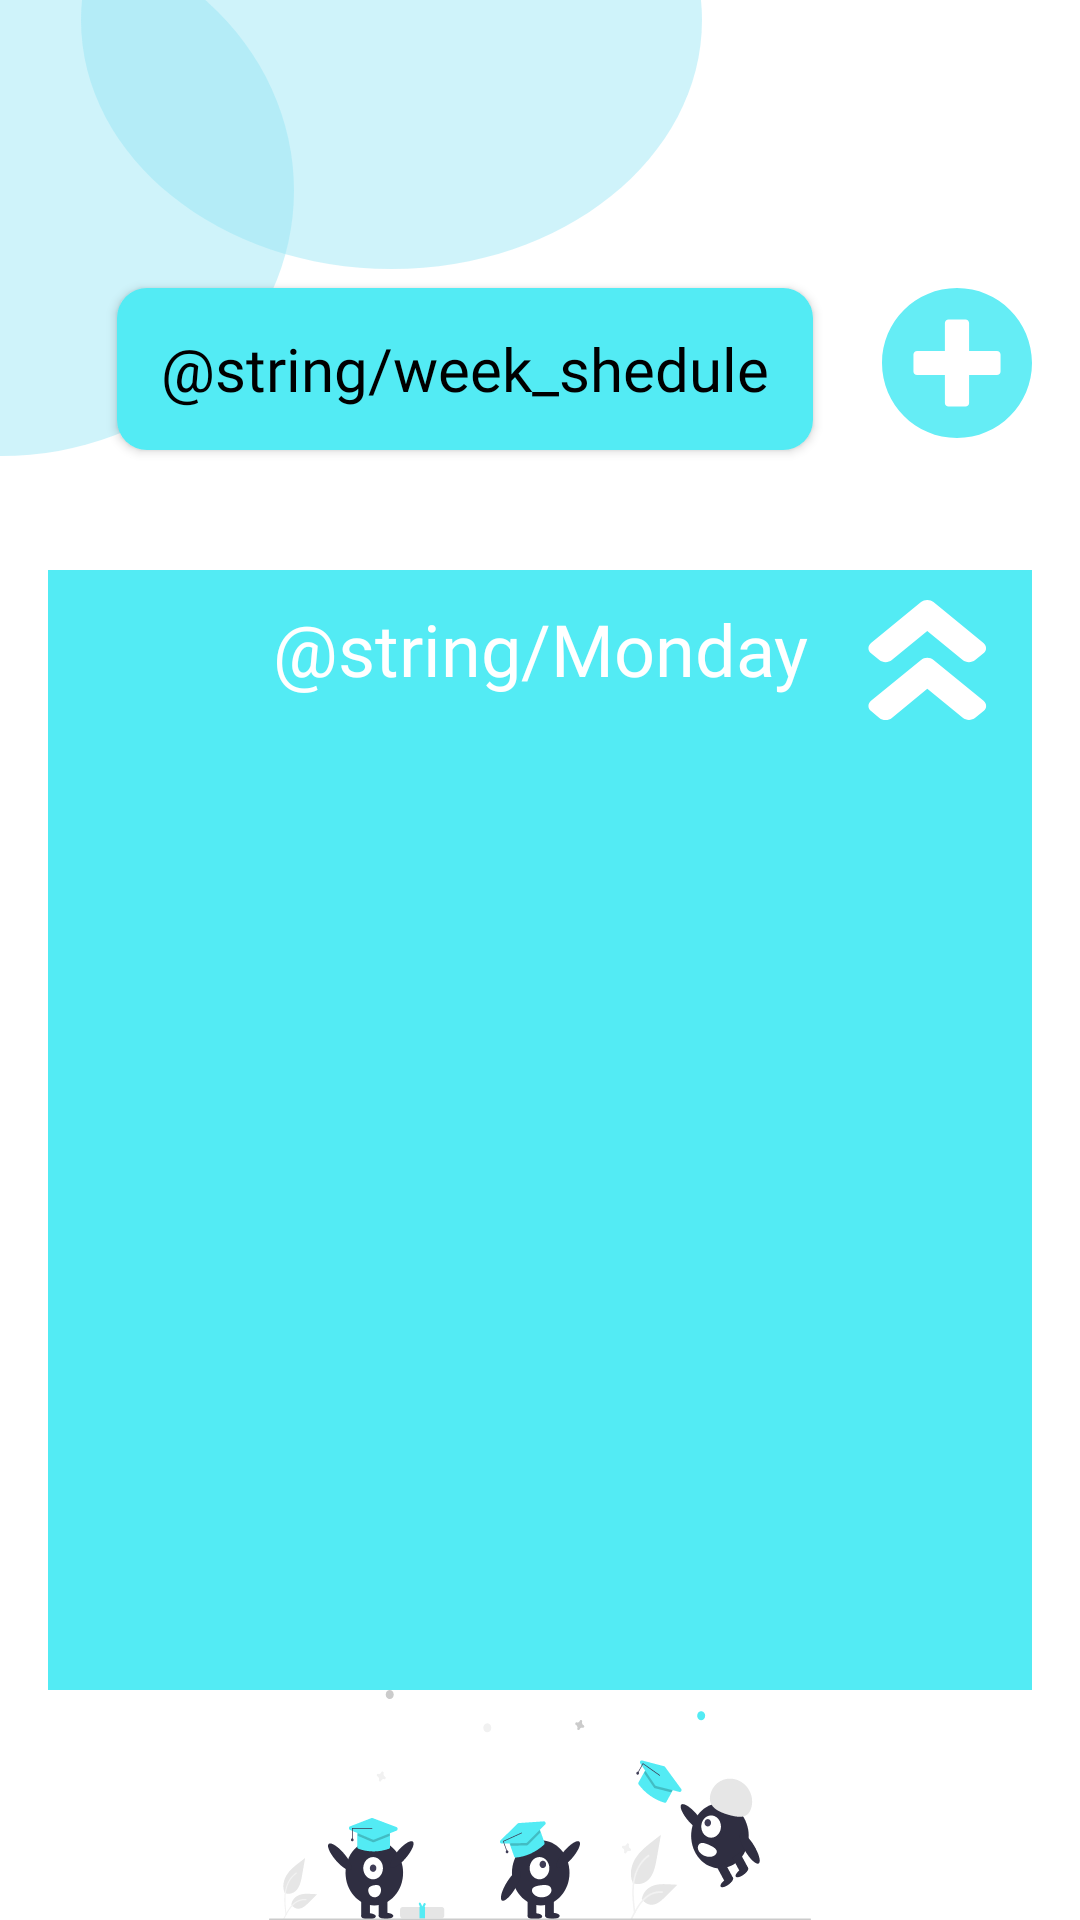

Named icons in this screenshot (1080 x 1920) and their centers, point (x, y):
add botton: point (957, 363)
higher: point (927, 660)
